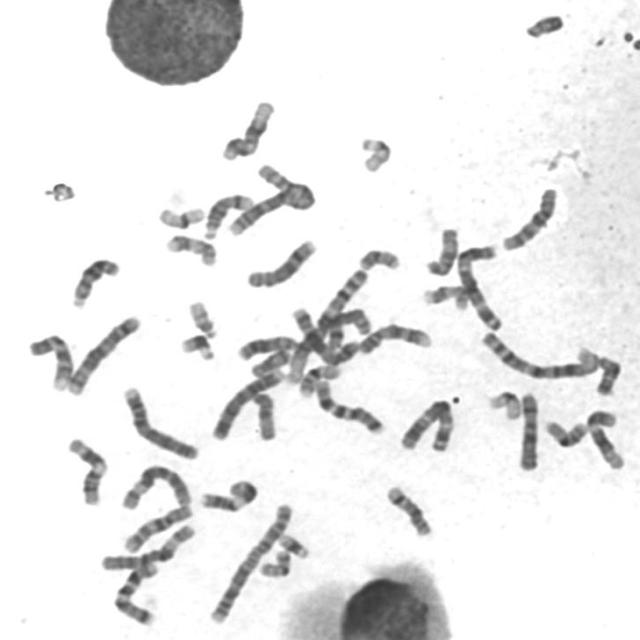A1: (282, 264, 372, 390), (476, 326, 600, 381)
A2: (204, 498, 296, 626), (220, 158, 316, 237)
A3: (450, 239, 505, 331), (394, 394, 458, 454)
B4: (117, 381, 201, 462), (206, 363, 286, 442)
B5: (61, 309, 142, 397), (285, 302, 362, 367)
C10: (497, 182, 561, 253), (118, 500, 195, 555)
C11: (61, 432, 109, 507), (194, 475, 260, 514)
C12: (216, 95, 277, 162), (581, 404, 627, 472)
C6: (96, 519, 198, 572), (115, 460, 193, 512)
C7: (309, 374, 387, 436), (108, 558, 161, 628)
C8: (240, 233, 320, 290), (304, 305, 380, 364)
C9: (22, 328, 75, 392), (354, 319, 434, 357)
D13: (66, 252, 122, 310), (233, 330, 302, 362)
D14: (381, 481, 435, 538), (198, 188, 256, 241)
D15: (420, 222, 461, 278), (248, 386, 278, 442)
E16: (294, 360, 343, 398), (540, 415, 589, 449)
E17: (160, 229, 220, 269), (418, 280, 472, 312)
E18: (245, 343, 294, 380), (590, 350, 623, 398)
F19: (152, 200, 207, 230), (486, 390, 525, 425)
F20: (354, 244, 403, 272), (255, 545, 293, 580)
G21: (175, 328, 217, 362), (273, 527, 312, 560)
G22: (351, 128, 396, 178), (182, 294, 220, 340)
X: (512, 387, 542, 473)
Y: (520, 8, 566, 40)
